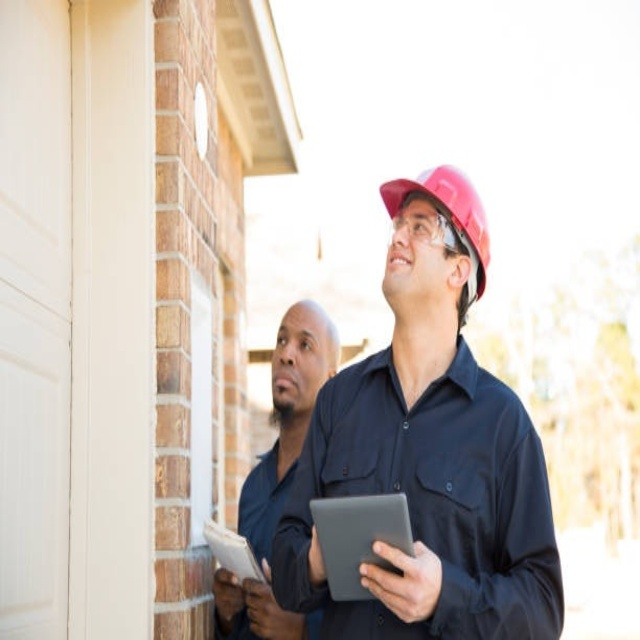Gafas: (386, 211, 465, 252)
Sin_gafas: (276, 322, 318, 356)
Sin_guantes: (359, 538, 444, 626), (242, 571, 304, 640), (212, 566, 247, 630)
Sin_mascara: (384, 248, 411, 295), (271, 370, 303, 406)
